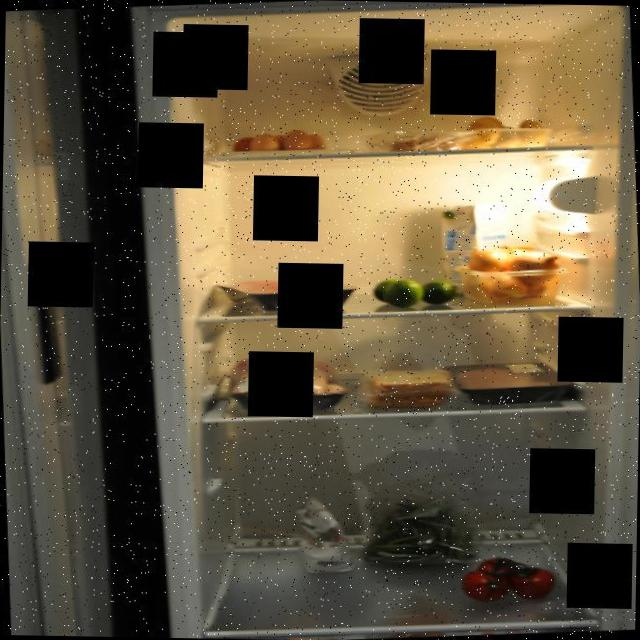Carne pollo: (218, 351, 344, 408), (452, 362, 561, 402)
Cebolla: (454, 240, 558, 308)
Gambas/Langostinos: (372, 126, 468, 156)
Huevos: (228, 125, 326, 162)
Leche: (433, 198, 506, 298)
Patata: (452, 112, 552, 154)
Tomate: (460, 552, 560, 606)
